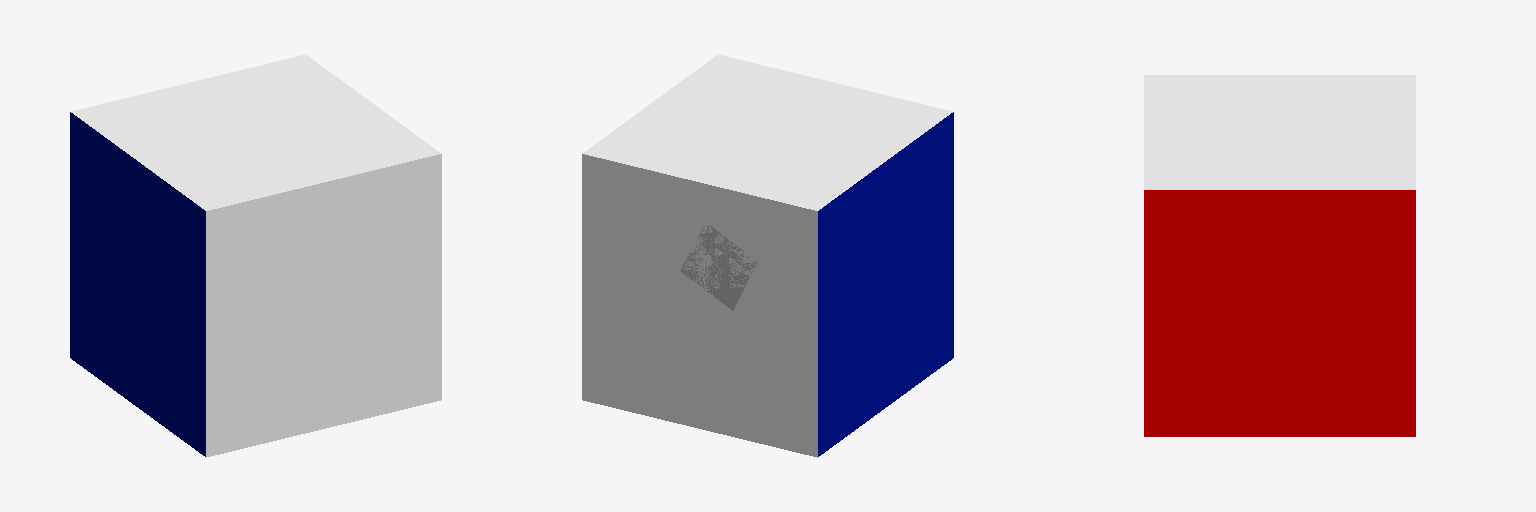
Rendered from scene_subdivide_light_4.obj.
3 renders of one model, left to right at view 1: azimuth 30°, elevation 25°; view 2: azimuth 150°, elevation 25°; view 3: azimuth 270°, elevation 25°, orthographic.
Visible parts, largest first — view 1: Cube; view 2: Cube; view 3: Cube.
Part boxes in pixels (x1,y1,x2,y2): Cube: (70, 54, 441, 457); Cube: (582, 54, 953, 457); Cube: (1144, 75, 1415, 436).
Bounding box in the file's own units: 4 × 4 × 4.